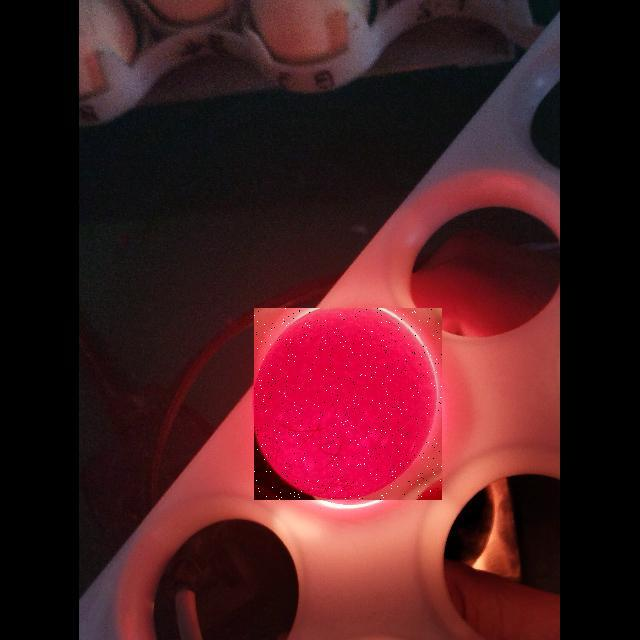Infertile: (254, 308, 442, 500)
